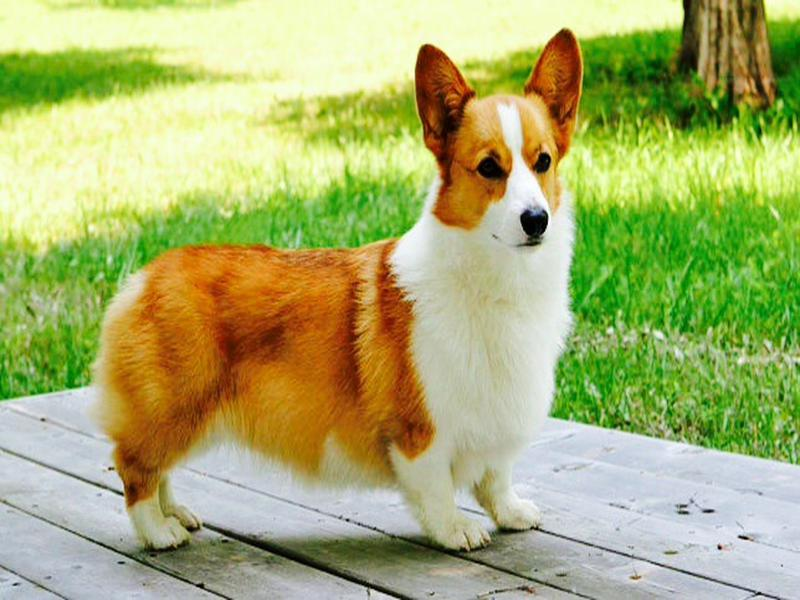corgi: (416, 27, 586, 251)
